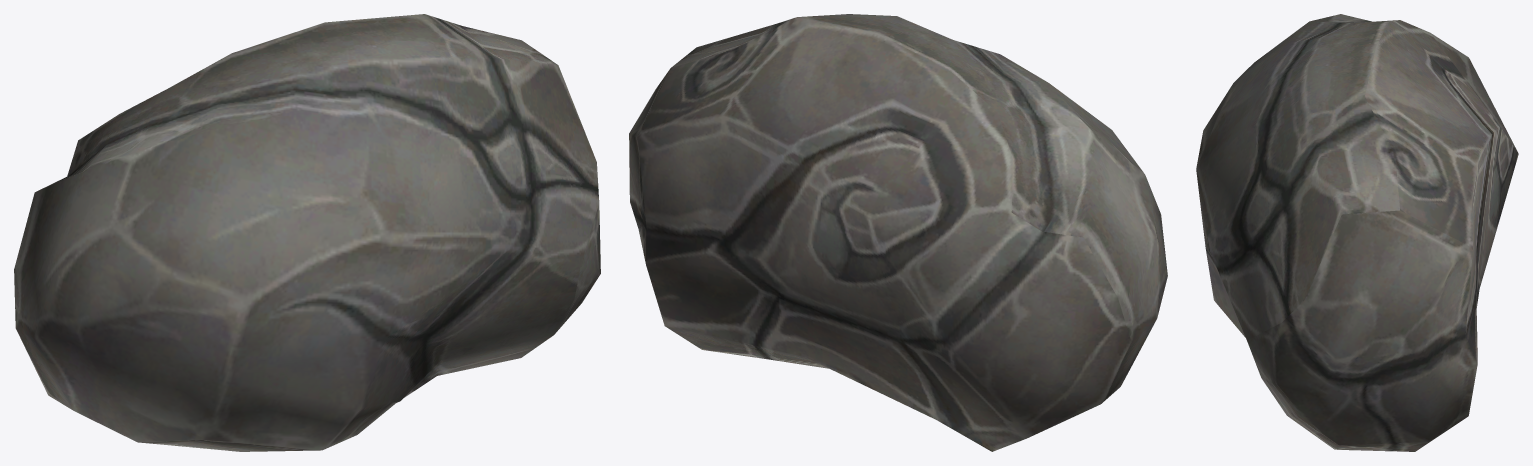
The model's file is Rock.fbx.
3 renders of one model, left to right at view 1: azimuth 30°, elevation 25°; view 2: azimuth 150°, elevation 25°; view 3: azimuth 270°, elevation 25°, orthographic. The views are drawn at different scales.
Visible parts, largest first — view 1: node_id30; view 2: node_id30; view 3: node_id30.
Boxes of the visible parts, x1,y1,x2,y2 form: node_id30: [14, 14, 600, 451]; node_id30: [629, 14, 1167, 451]; node_id30: [1196, 14, 1518, 451].
Bounding box in the file's own units: 0.512 × 0.3481 × 0.2894.
Materials: 1 (1 with a texture image).
